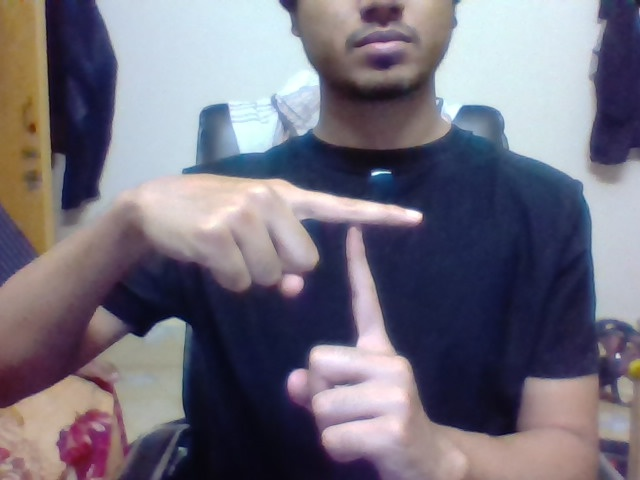T: (327, 180, 430, 336)
